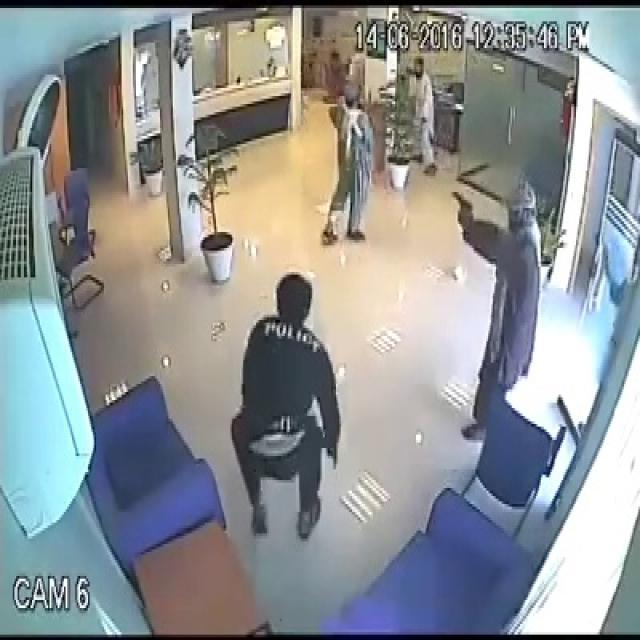weapon: (446, 184, 474, 222)
